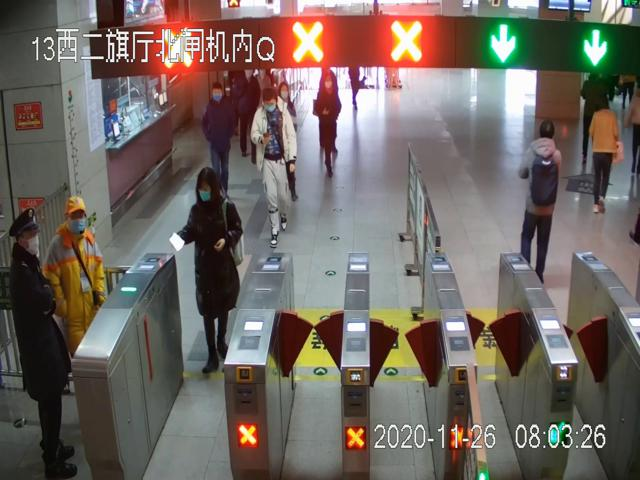person: (7, 207, 77, 480), (173, 168, 243, 374), (44, 196, 106, 375), (251, 87, 298, 248), (519, 119, 564, 284), (199, 81, 236, 198), (589, 95, 622, 215), (313, 70, 343, 178)
